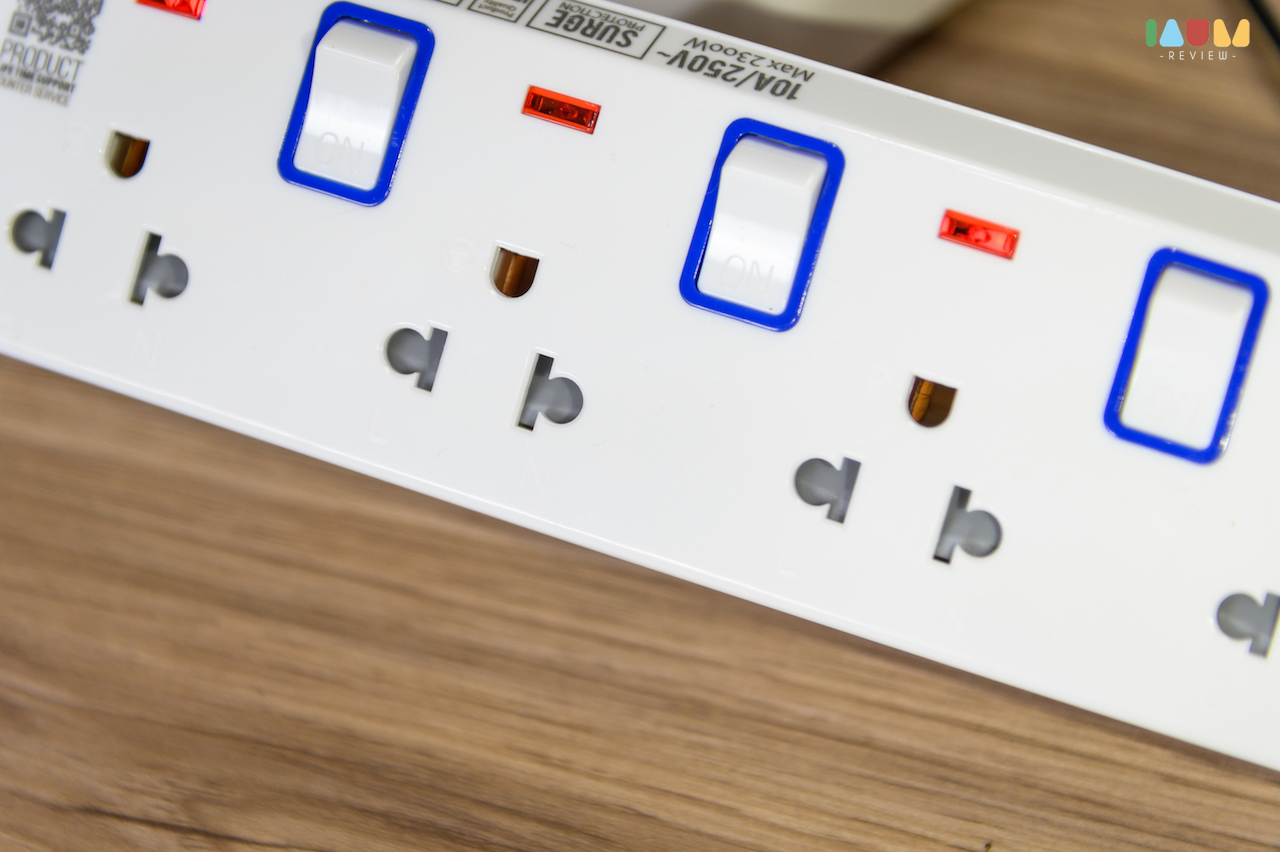Three_eye_plug: (1, 1, 1279, 784)
